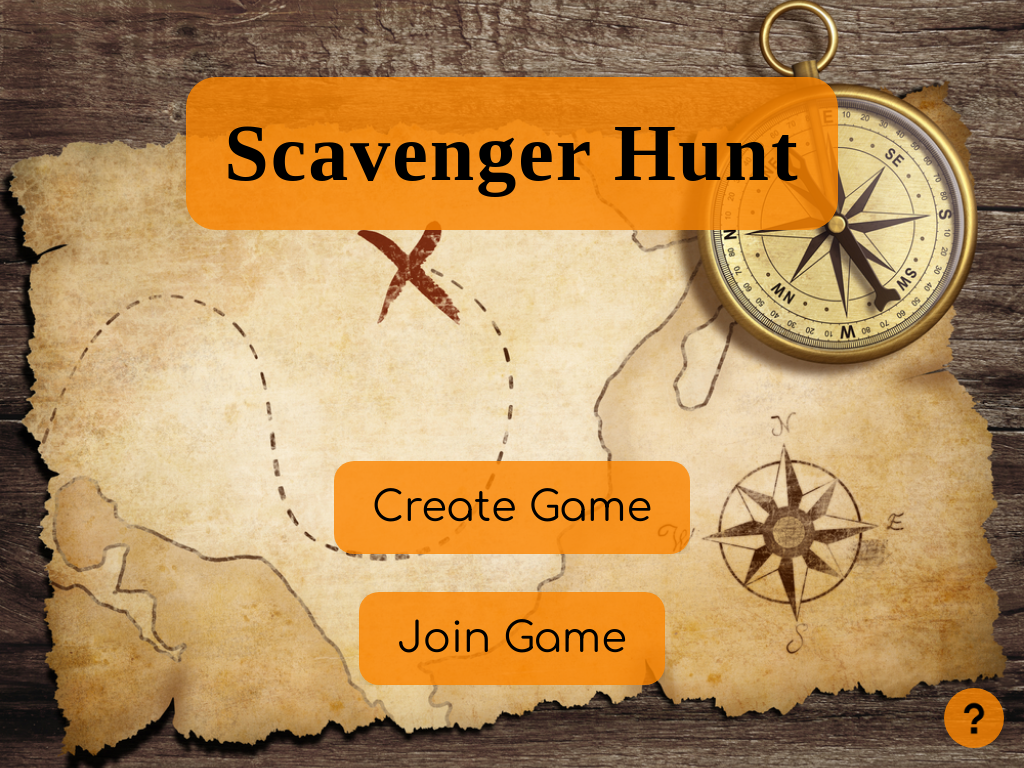
Test Home Page Screen › redirects to pin page when join button is clicked
Click the button "Join Game" at {"x": 512, "y": 639}, box [359, 592, 665, 685]
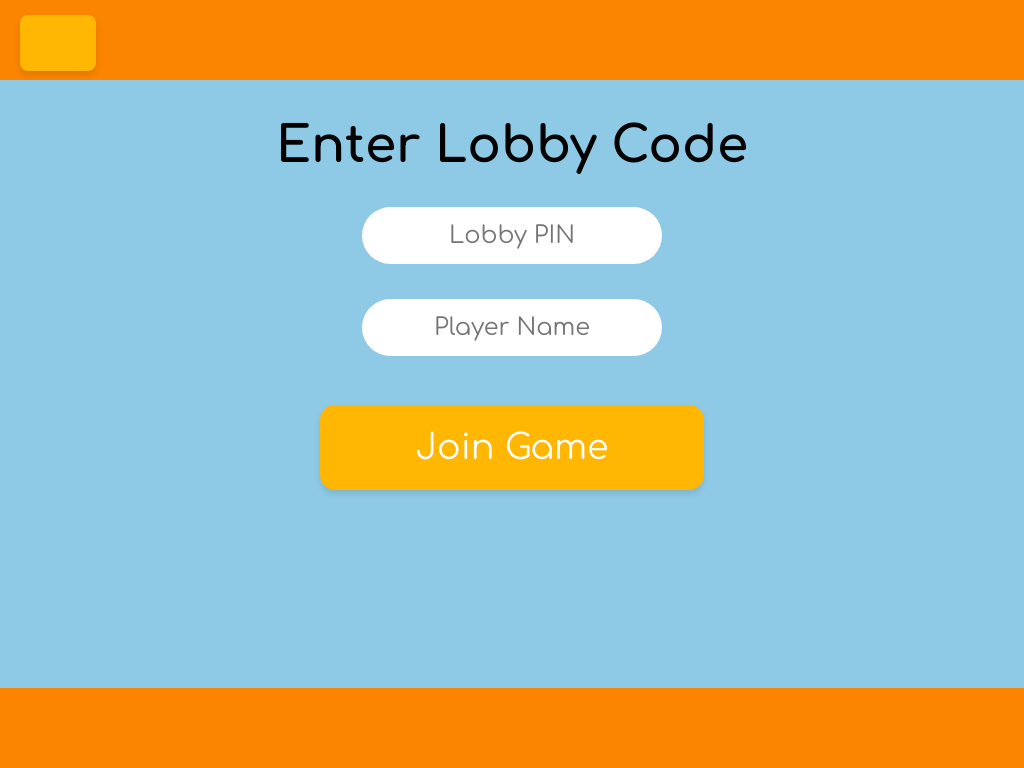
Expected: the heading "Enter Lobby Code" is shown, [276, 118, 748, 174]
Expected: the field with placeholder "Lobby PIN" is shown, [362, 207, 662, 264]
Expected: the field with placeholder "Player Name" is shown, [362, 299, 662, 356]
